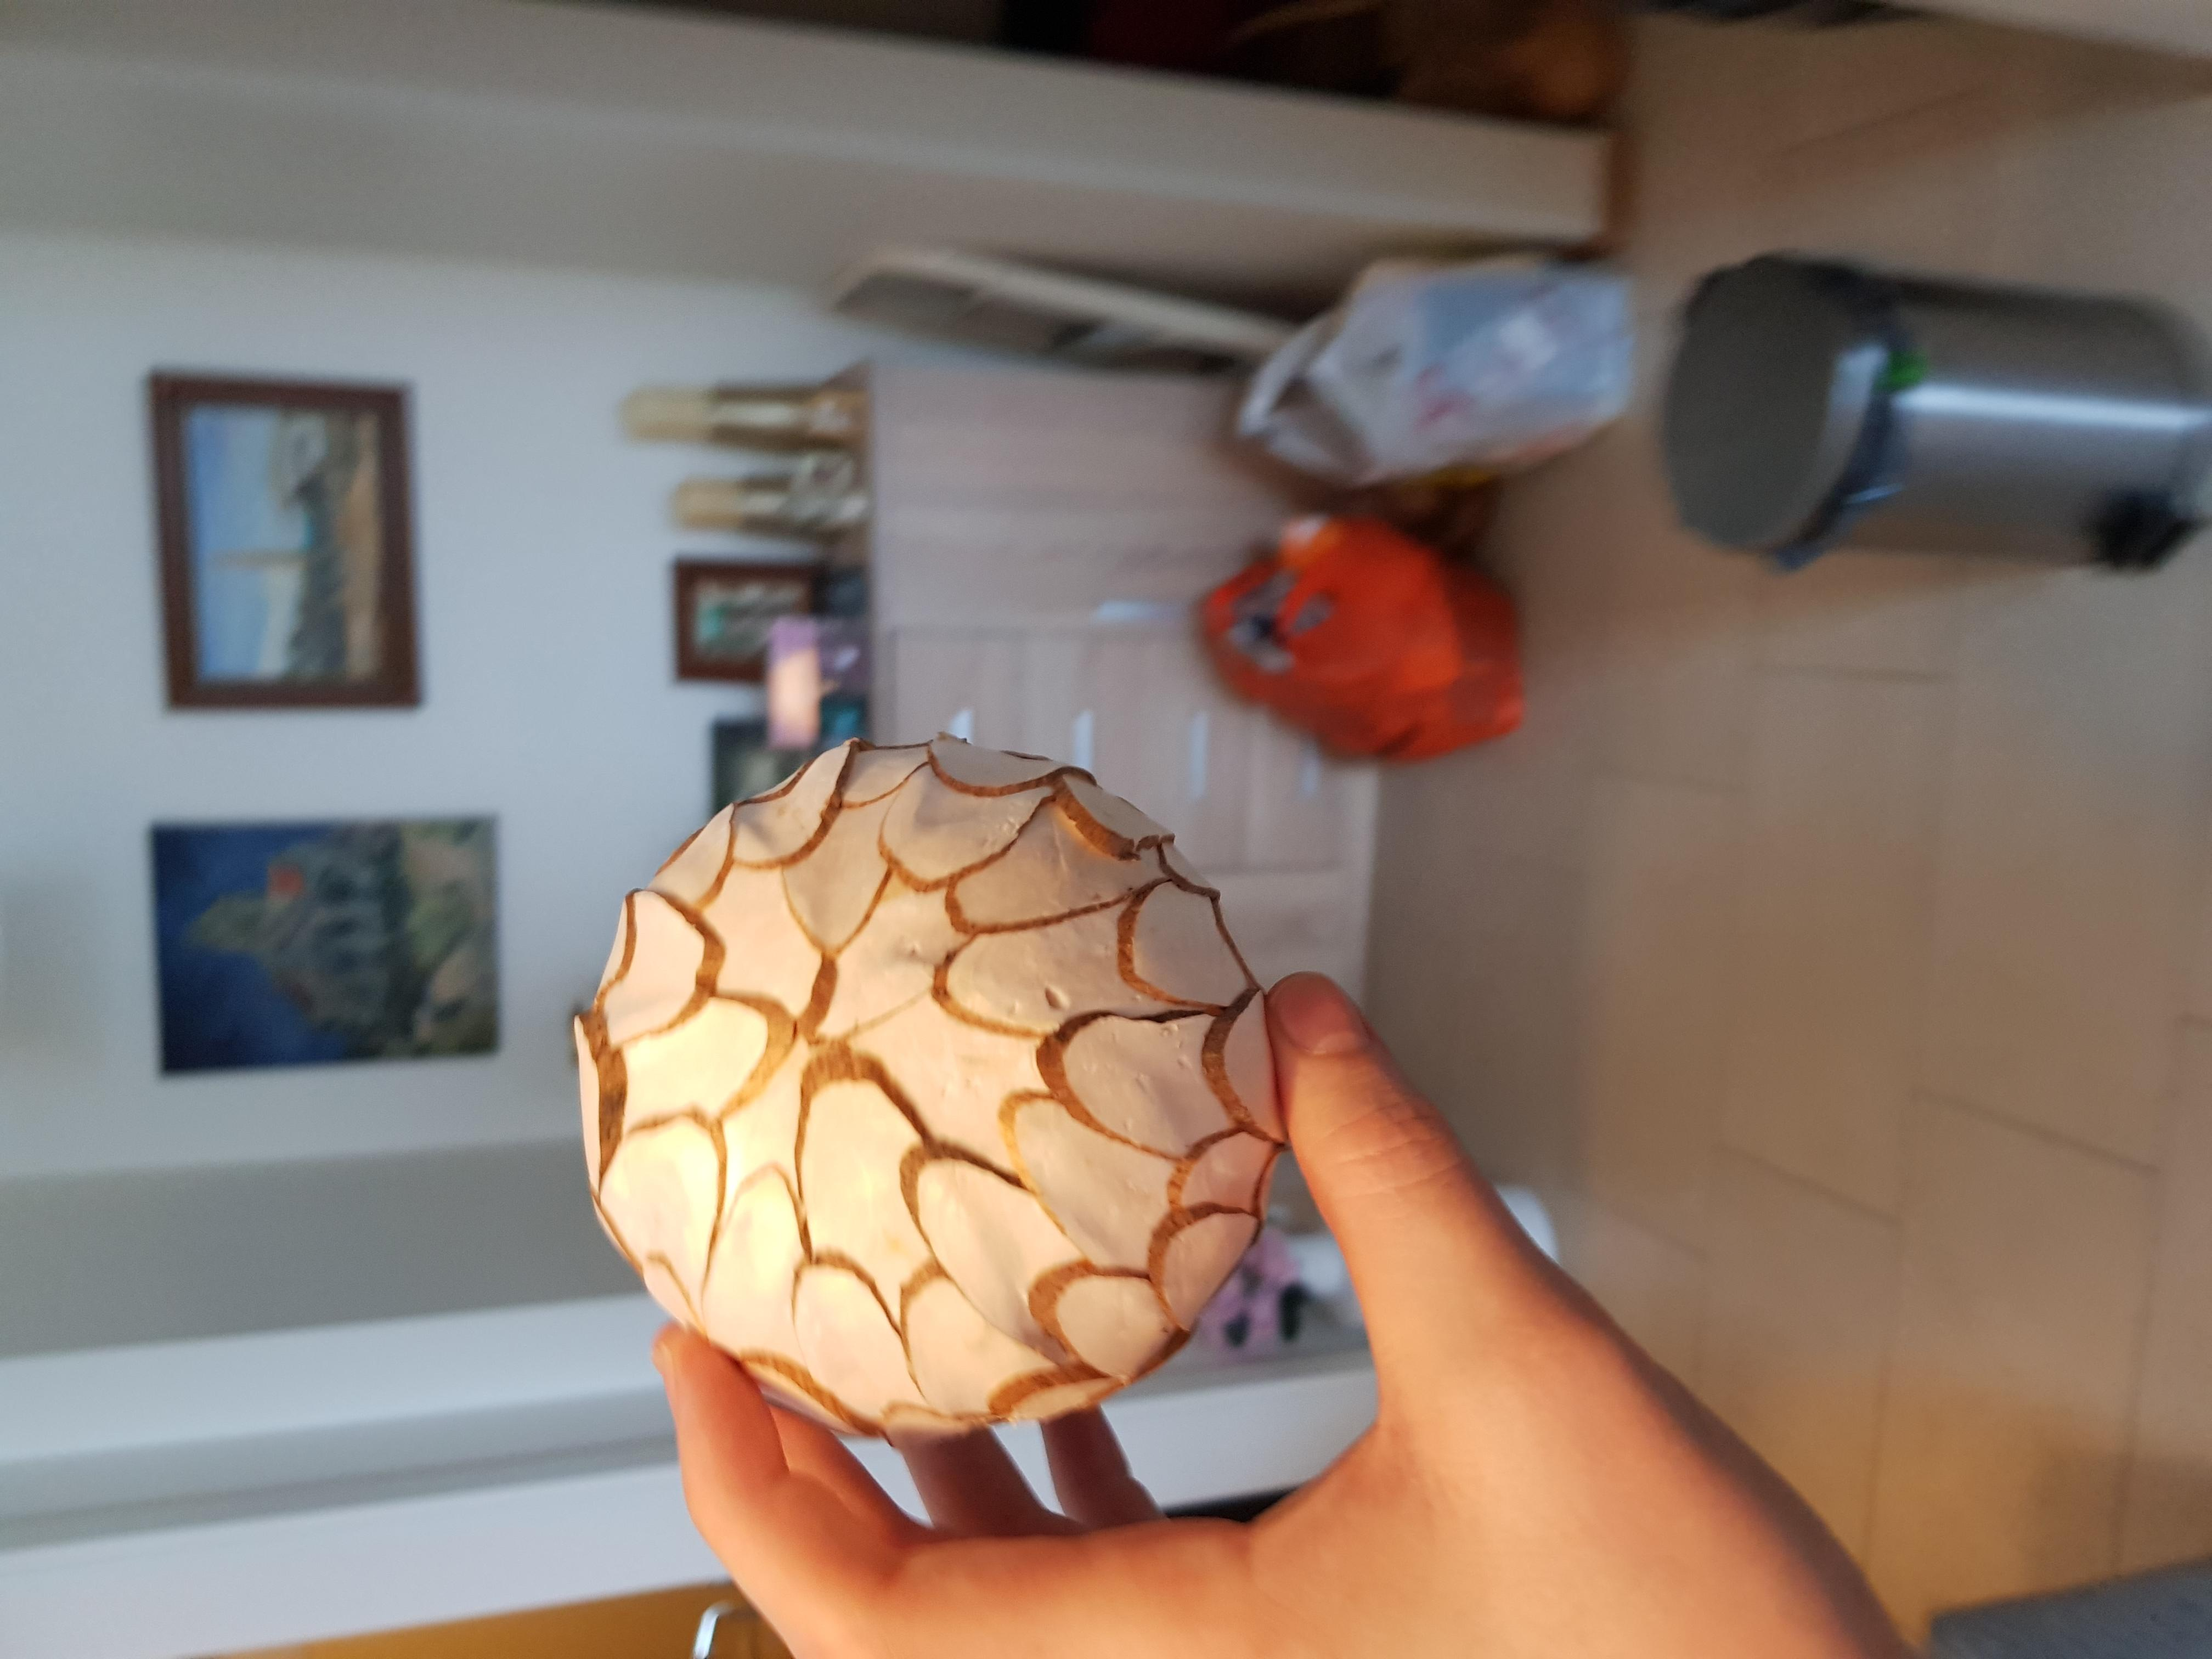Sphere: (556, 725, 1284, 1448)
